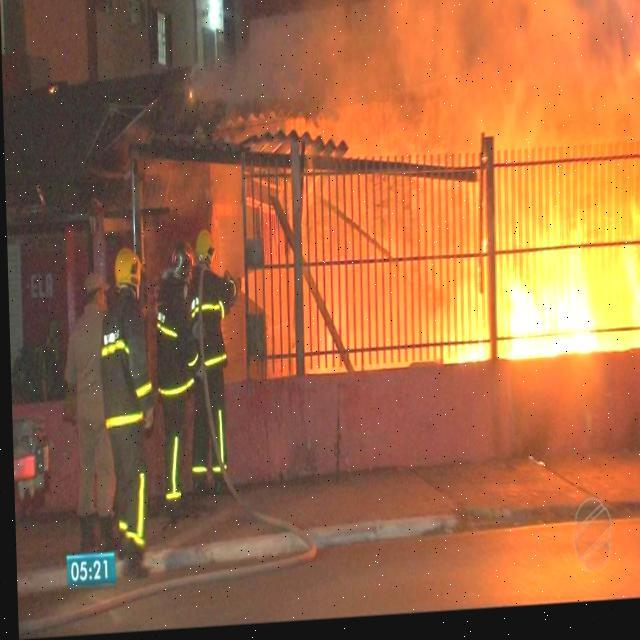Fire: (448, 225, 639, 373)
